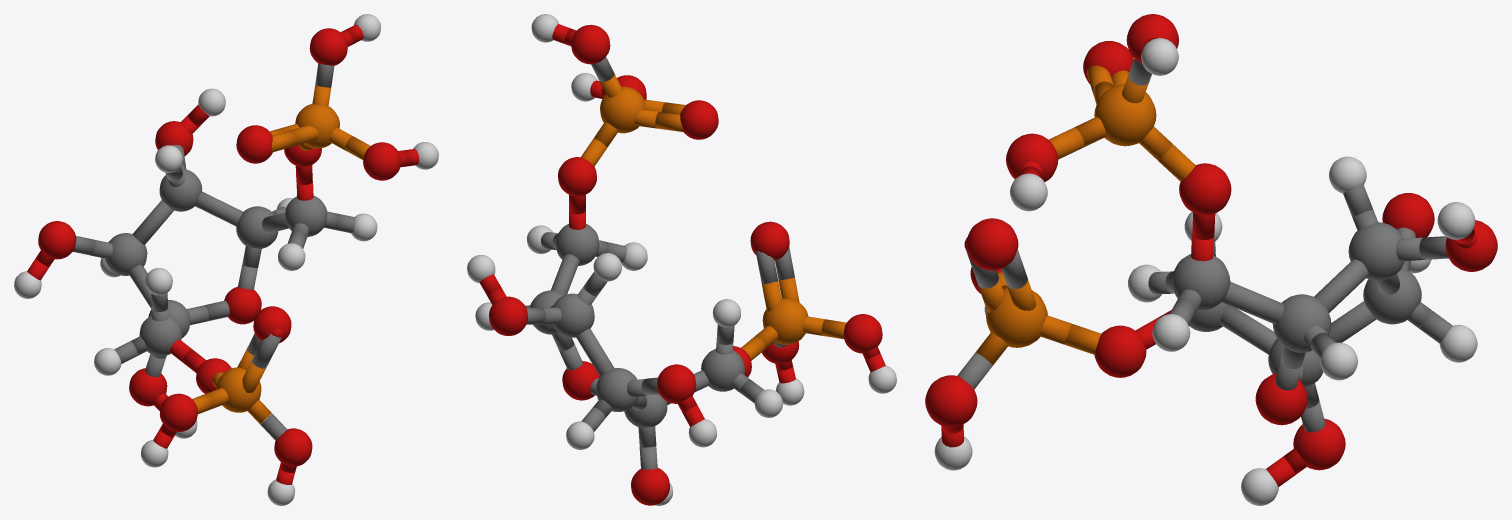
File: fructose1_6-bisphosphate.obj
The picture shows the model from 3 angles, left to right: view 1: azimuth 30°, elevation 25°; view 2: azimuth 150°, elevation 25°; view 3: azimuth 270°, elevation 25°; orthographic projection. The views are drawn at different scales.
Parts seen in each view (by area): view 1: ShapeSphere.015_ShapeSphere.017, ShapeSphere.018_ShapeSphere.017, ShapeSphere.001_ShapeSphere.015, ShapeSphere.017, ShapeSphere.019_ShapeSphere.017, ShapeSphere_ShapeSphere.015, ShapeSphere.016_ShapeSphere.017, ShapeSphere.011_ShapeSphere.016, ShapeSphere.009_ShapeSphere.016, ShapeSphere.004_ShapeSphere.016, ShapeSphere.008_ShapeSphere.016, ShapeSphere.013_ShapeSphere.016 (+22 smaller); view 2: ShapeSphere_ShapeSphere.015, ShapeSphere.001_ShapeSphere.015, ShapeSphere.016_ShapeSphere.017, ShapeSphere.018_ShapeSphere.017, ShapeSphere.019_ShapeSphere.017, ShapeSphere.015_ShapeSphere.017, ShapeSphere.010_ShapeSphere.016, ShapeSphere.007_ShapeSphere.016, ShapeSphere.005_ShapeSphere.016, ShapeSphere.013_ShapeSphere.016, ShapeSphere.004_ShapeSphere.016, ShapeSphere.009_ShapeSphere.016 (+20 smaller); view 3: ShapeSphere.001_ShapeSphere.015, ShapeSphere.016_ShapeSphere.017, ShapeSphere.019_ShapeSphere.017, ShapeSphere_ShapeSphere.015, ShapeSphere.017, ShapeSphere.012_ShapeSphere.016, ShapeSphere.008_ShapeSphere.016, ShapeSphere.006_ShapeSphere.016, ShapeSphere.007_ShapeSphere.016, ShapeSphere.015_ShapeSphere.017, ShapeSphere.003_ShapeSphere.016, ShapeSphere.002_ShapeSphere.016 (+25 smaller).
Part boxes in pixels (left/top/right/bottom): ShapeSphere.015_ShapeSphere.017: left=105, top=233, right=147, bottom=275; ShapeSphere.018_ShapeSphere.017: left=139, top=315, right=181, bottom=356; ShapeSphere.001_ShapeSphere.015: left=295, top=103, right=339, bottom=148; ShapeSphere.017: left=236, top=206, right=278, bottom=248; ShapeSphere.019_ShapeSphere.017: left=285, top=196, right=327, bottom=236; ShapeSphere_ShapeSphere.015: left=216, top=367, right=261, bottom=412; ShapeSphere.016_ShapeSphere.017: left=159, top=168, right=202, bottom=211; ShapeSphere.011_ShapeSphere.016: left=363, top=142, right=400, bottom=180; ShapeSphere.009_ShapeSphere.016: left=160, top=393, right=197, bottom=431; ShapeSphere.004_ShapeSphere.016: left=38, top=221, right=76, bottom=259; ShapeSphere.008_ShapeSphere.016: left=274, top=428, right=312, bottom=466; ShapeSphere.013_ShapeSphere.016: left=236, top=125, right=272, bottom=163; ShapeSphere_ShapeSphere.015: left=762, top=298, right=808, bottom=344; ShapeSphere.001_ShapeSphere.015: left=600, top=86, right=644, bottom=133; ShapeSphere.016_ShapeSphere.017: left=552, top=293, right=594, bottom=337; ShapeSphere.018_ShapeSphere.017: left=701, top=349, right=744, bottom=391; ShapeSphere.019_ShapeSphere.017: left=555, top=224, right=599, bottom=265; ShapeSphere.015_ShapeSphere.017: left=596, top=368, right=638, bottom=411; ShapeSphere.010_ShapeSphere.016: left=571, top=24, right=610, bottom=64; ShapeSphere.007_ShapeSphere.016: left=558, top=157, right=596, bottom=196; ShapeSphere.005_ShapeSphere.016: left=489, top=296, right=527, bottom=335; ShapeSphere.013_ShapeSphere.016: left=680, top=100, right=718, bottom=139; ShapeSphere.004_ShapeSphere.016: left=657, top=364, right=696, bottom=403; ShapeSphere.009_ShapeSphere.016: left=843, top=314, right=882, bottom=353; ShapeSphere.001_ShapeSphere.015: left=1094, top=84, right=1156, bottom=146; ShapeSphere.016_ShapeSphere.017: left=1348, top=222, right=1404, bottom=280; ShapeSphere.019_ShapeSphere.017: left=1171, top=254, right=1230, bottom=310; ShapeSphere_ShapeSphere.015: left=986, top=287, right=1047, bottom=347; ShapeSphere.017: left=1272, top=294, right=1331, bottom=352; ShapeSphere.012_ShapeSphere.016: left=966, top=218, right=1018, bottom=270; ShapeSphere.008_ShapeSphere.016: left=925, top=375, right=977, bottom=427; ShapeSphere.006_ShapeSphere.016: left=1094, top=325, right=1146, bottom=377; ShapeSphere.007_ShapeSphere.016: left=1179, top=163, right=1231, bottom=215; ShapeSphere.015_ShapeSphere.017: left=1363, top=267, right=1421, bottom=324; ShapeSphere.003_ShapeSphere.016: left=1293, top=418, right=1345, bottom=470; ShapeSphere.002_ShapeSphere.016: left=1255, top=373, right=1307, bottom=425.
Size of the model in its own units: 6.37 by 8.27 by 7.64.
